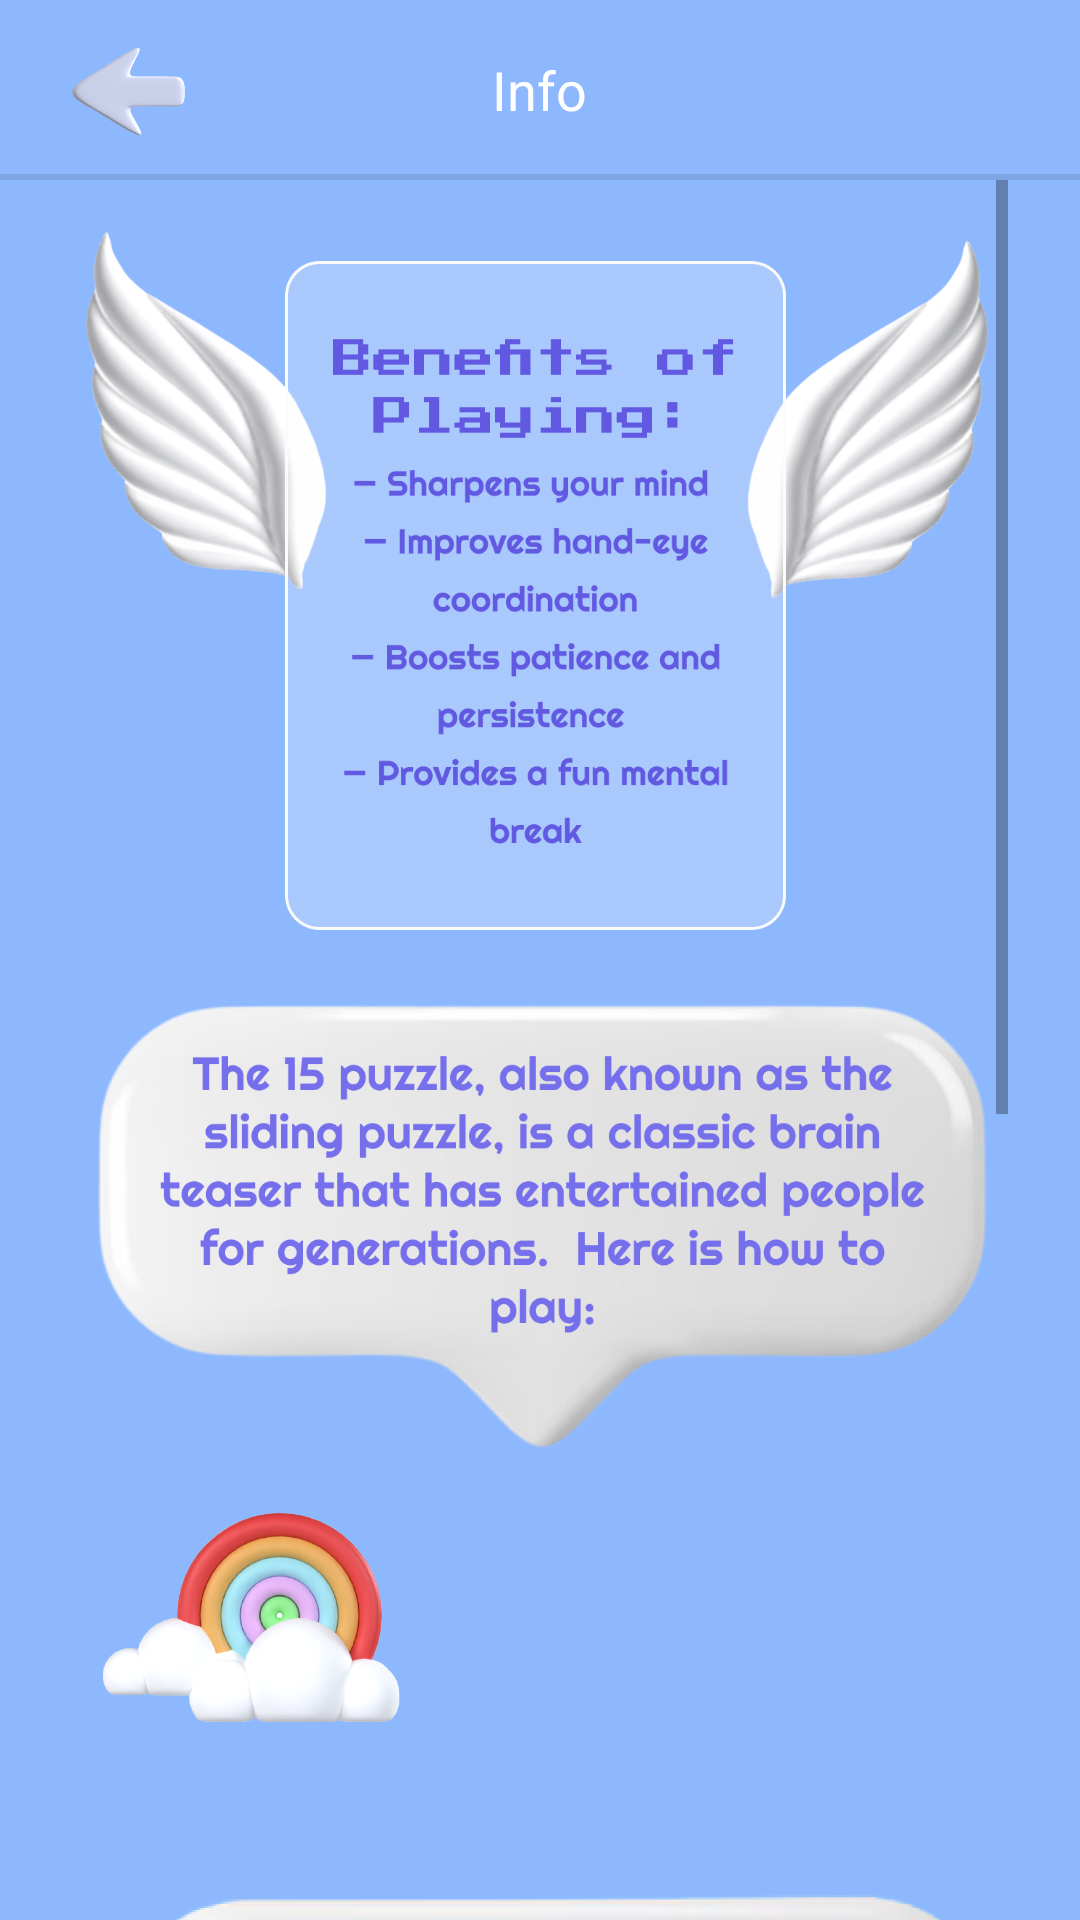

Point at icon controls on the screen. Image size 1080×1920, points as (x,y).
back: (128,91)
full rainbow: (251,1617)
